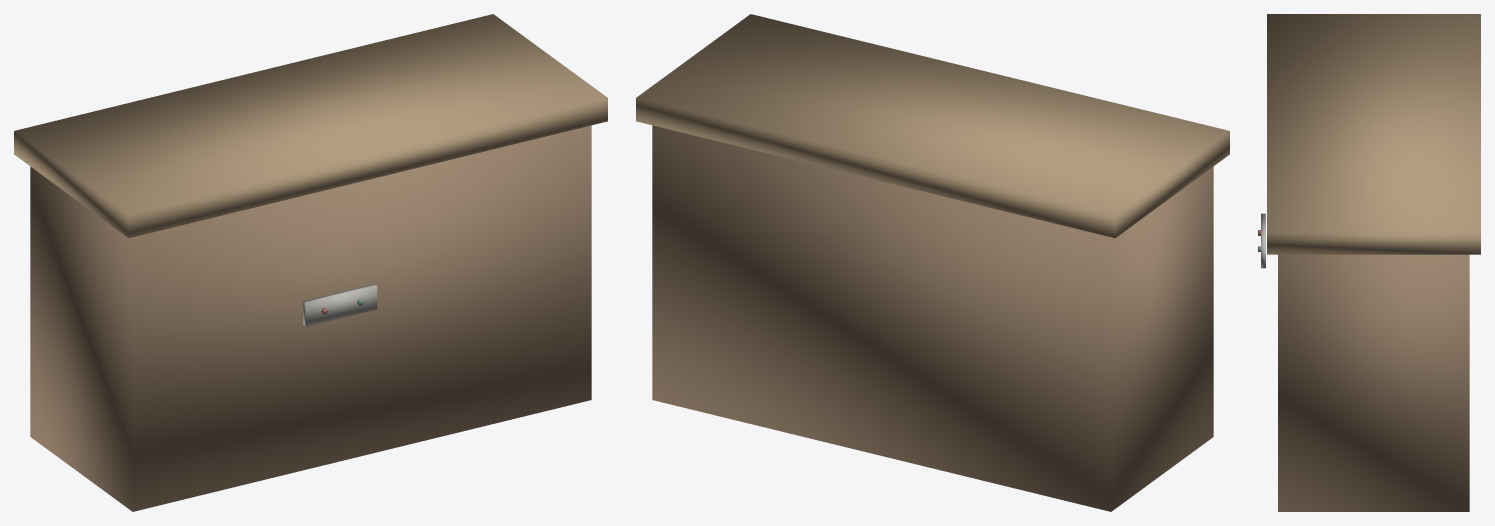
The model's file is host_stand__compact.glb.
3 views of the same model, side by side, from view 1: azimuth 30°, elevation 25°; view 2: azimuth 150°, elevation 25°; view 3: azimuth 270°, elevation 25° (orthographic). The views are drawn at different scales.
Parts seen in each view (by area): view 1: world; view 2: world; view 3: world.
Part boxes in pixels (x1,y1,x2,y2): world: (14, 14, 607, 511); world: (636, 14, 1229, 511); world: (1258, 14, 1480, 511).
Size of the model in its own units: 1.58 by 0.9579 by 0.6803.
